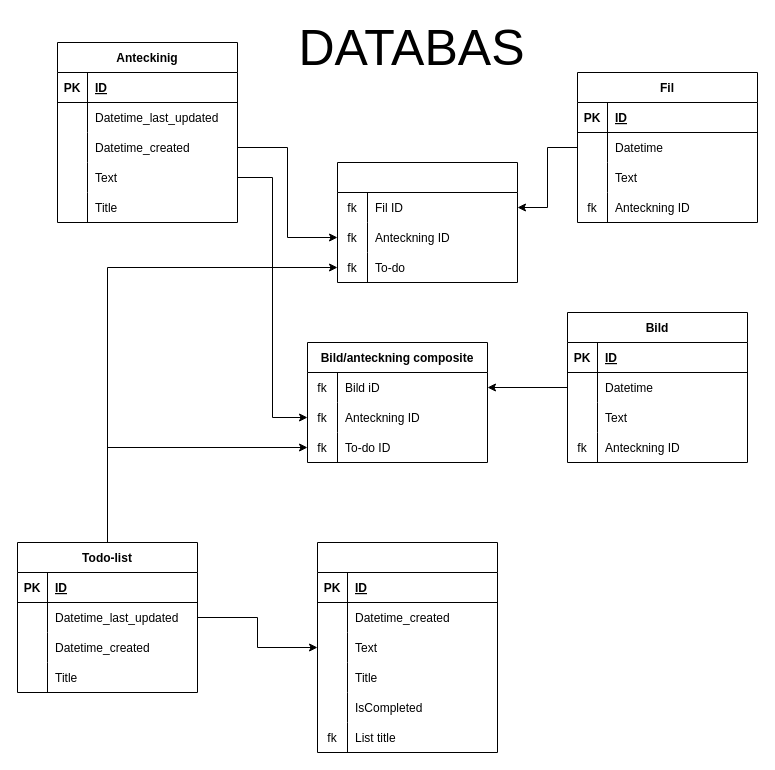
This 775x770 diagram has some shape labels left out. Here are the shapes that lost their labels. From the top down, the box of each, then its label:
(336, 162, 518, 282): Fil composite
(316, 542, 498, 752): Todo-items
